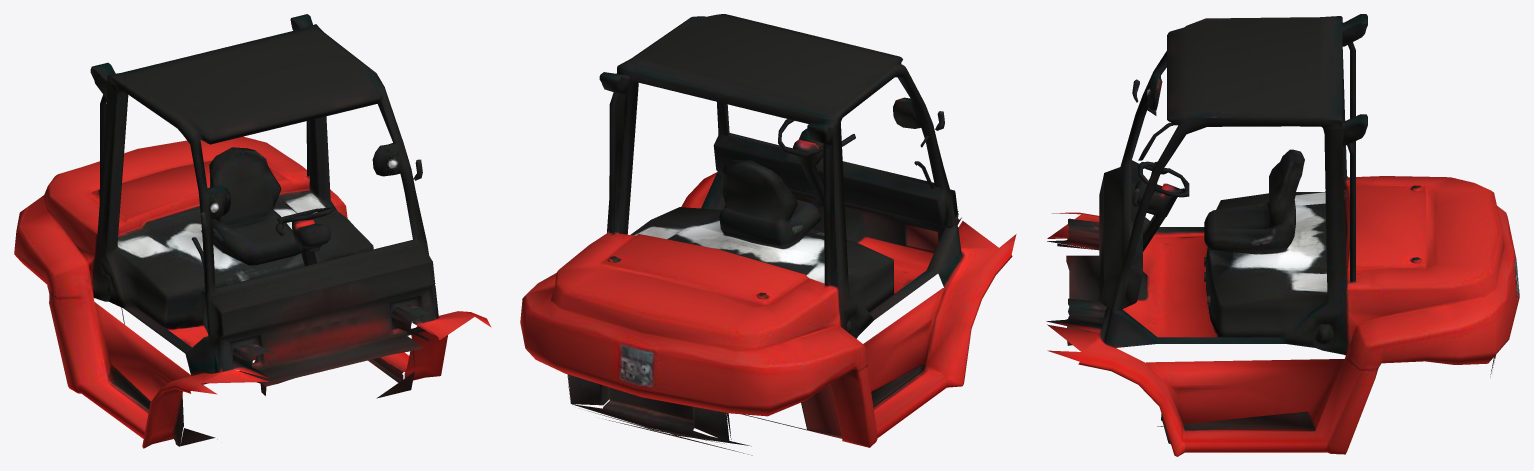
3 renders of one model, left to right at view 1: azimuth 30°, elevation 25°; view 2: azimuth 150°, elevation 25°; view 3: azimuth 270°, elevation 25°, orthographic. The views are drawn at different scales.
Visible parts, largest first — view 1: tripo_node_a8990f6e-4dfd-4d81-888d-f4da57077492, roof, steer; view 2: tripo_node_a8990f6e-4dfd-4d81-888d-f4da57077492, roof, steer; view 3: tripo_node_a8990f6e-4dfd-4d81-888d-f4da57077492, roof, steer.
Boxes of the visible parts, box(x1,y1,x2,y2) form: tripo_node_a8990f6e-4dfd-4d81-888d-f4da57077492: box(14, 93, 491, 448); roof: box(90, 14, 402, 190); steer: box(275, 207, 334, 252); tripo_node_a8990f6e-4dfd-4d81-888d-f4da57077492: box(520, 72, 1016, 455); roof: box(599, 14, 922, 158); steer: box(778, 119, 855, 171); tripo_node_a8990f6e-4dfd-4d81-888d-f4da57077492: box(1046, 49, 1519, 456); roof: box(1156, 14, 1367, 171); steer: box(1134, 161, 1189, 217).
Bounding box in the file's own units: 1.62 × 1.66 × 2.18.
1 material, 1 textured.
